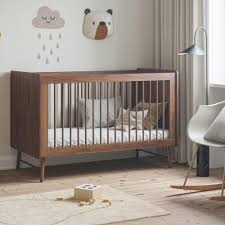crib: (11, 69, 177, 180)
